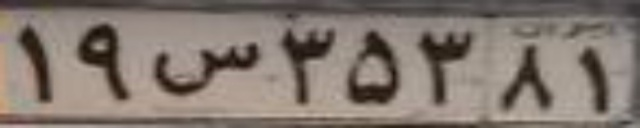1: (16, 24, 53, 102), (577, 45, 610, 112)
3: (278, 26, 339, 105), (416, 30, 476, 104)
5: (340, 28, 405, 103)
8: (498, 42, 551, 111)
9: (73, 23, 128, 100)
sin: (144, 37, 262, 95)
